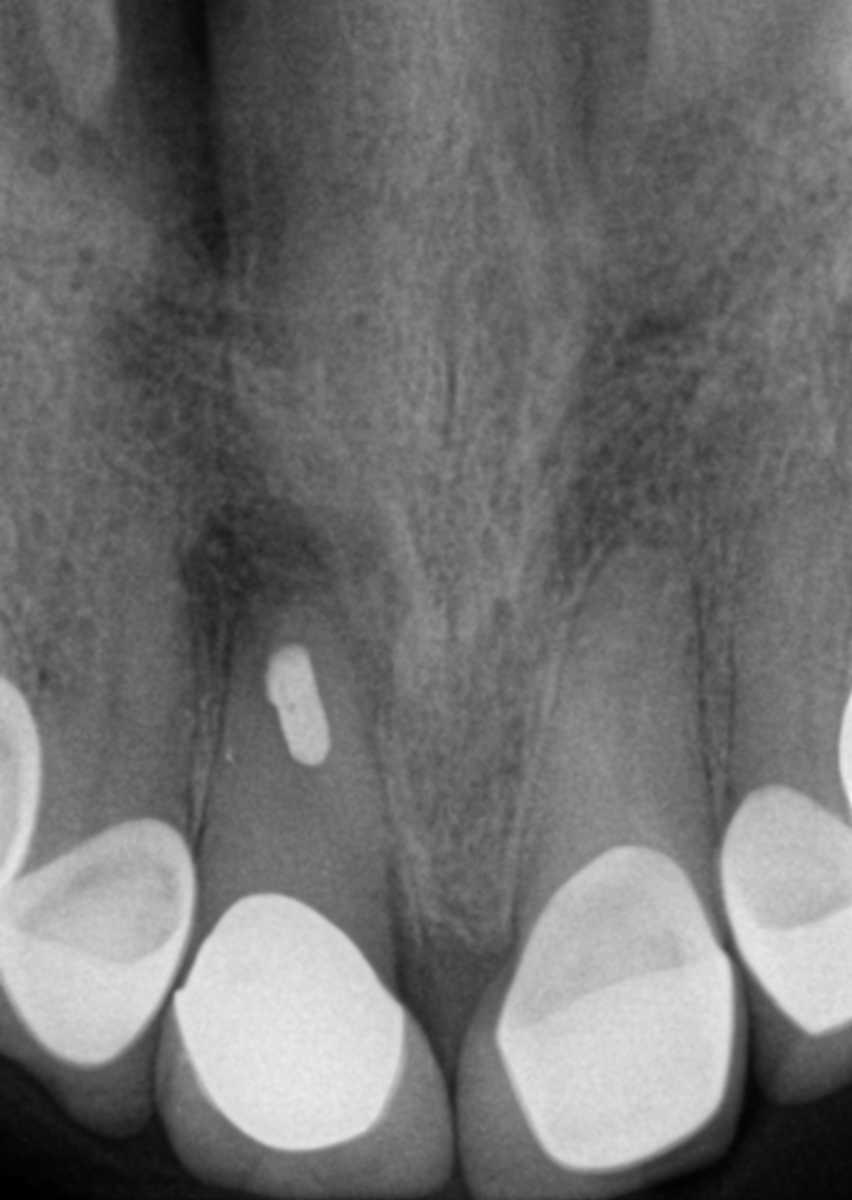Apical Lesion: (183, 490, 406, 723)
Main Canal: (86, 484, 127, 837), (799, 504, 832, 787)
Main Root: (519, 541, 720, 921), (194, 581, 405, 930), (19, 435, 195, 839), (724, 452, 852, 804)
